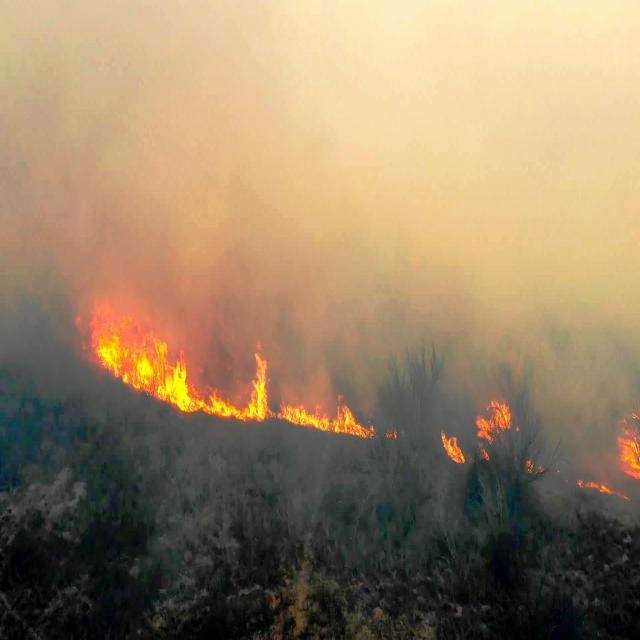Fire: (92, 296, 183, 424), (172, 343, 276, 433), (292, 401, 378, 436)
Smoke: (0, 0, 350, 242)
